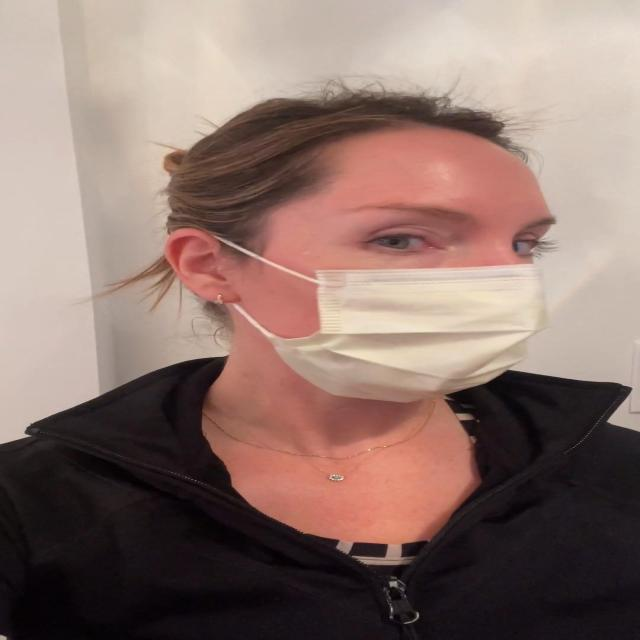Mask: (207, 133, 558, 405)
